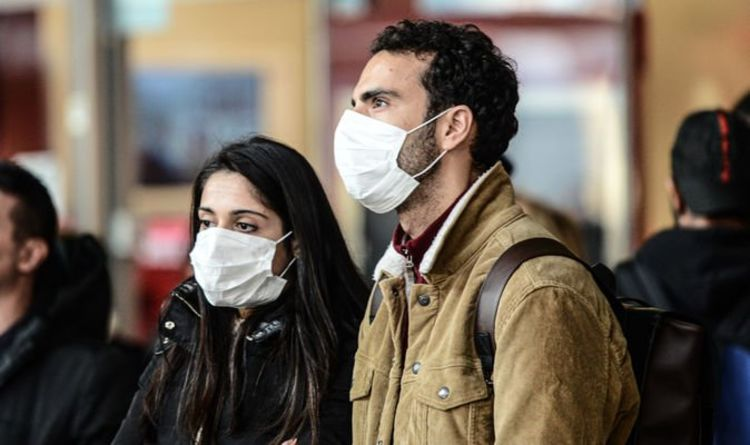surgical: (326, 111, 424, 216), (185, 229, 292, 309)
